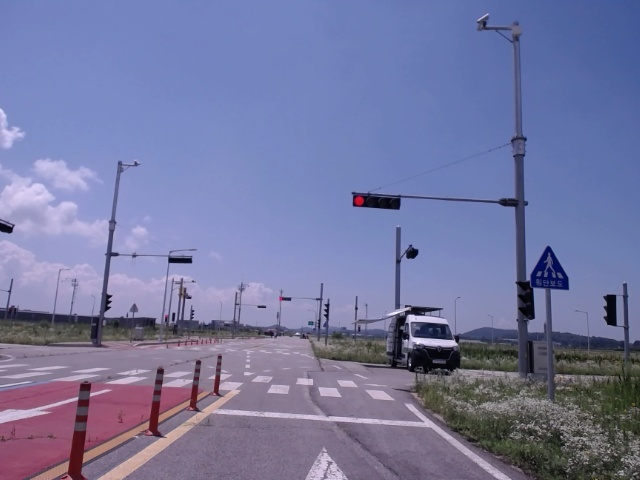red_4: (352, 195, 400, 210)
